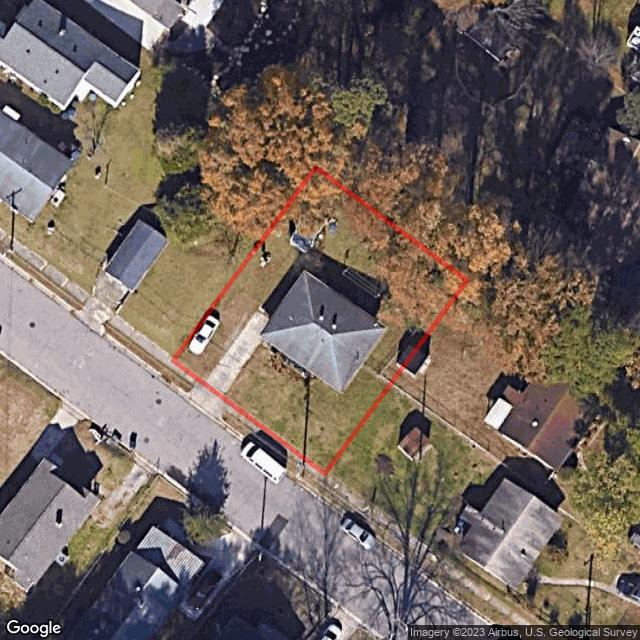Driveway: (206, 306, 271, 395)
Extra Driveway: (184, 385, 222, 423)
Extra Lawn: (287, 458, 320, 488), (162, 367, 194, 392), (222, 411, 252, 436)
Extra Sidewalk: (222, 402, 260, 431), (287, 450, 323, 480), (168, 362, 199, 386)
House: (262, 269, 390, 394)
Other: (396, 327, 426, 366), (343, 268, 382, 298), (291, 231, 315, 251)
